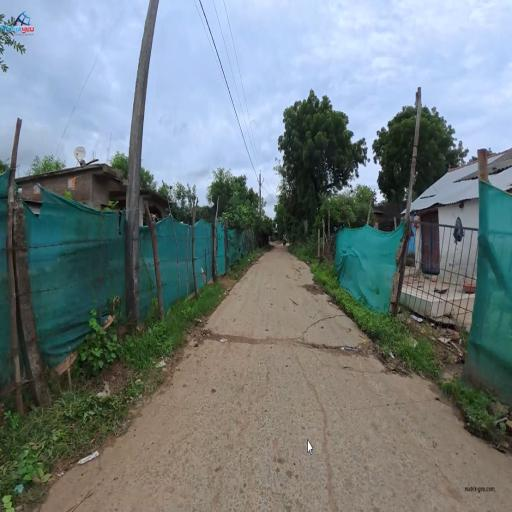longitudinal_crack: (209, 324, 354, 363)
